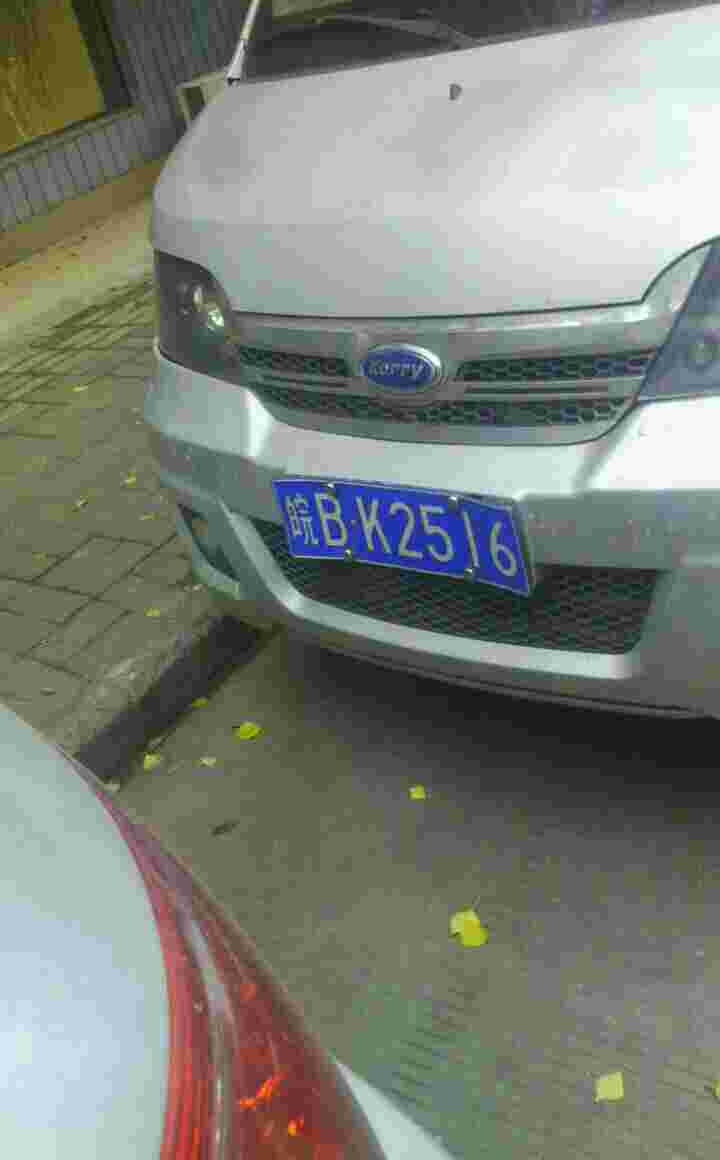license_plate: (266, 479, 537, 580)
